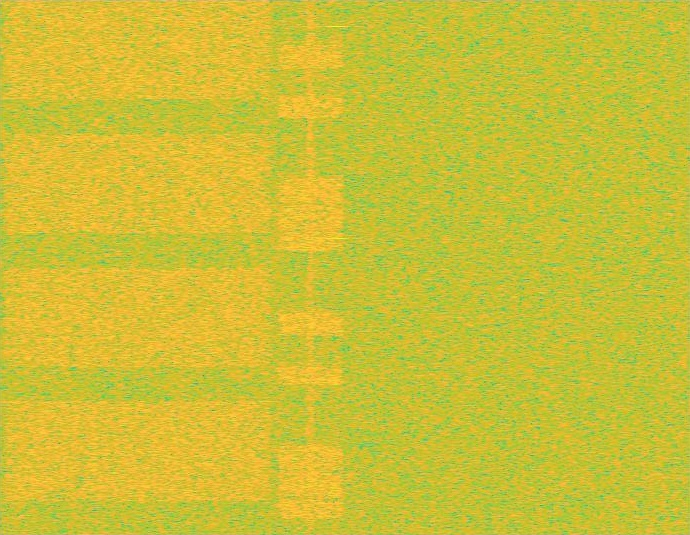5G: (0, 0, 276, 534)
DSSS: (306, 0, 315, 534)
LTE: (276, 0, 345, 534)
Radar: (331, 0, 344, 534)
